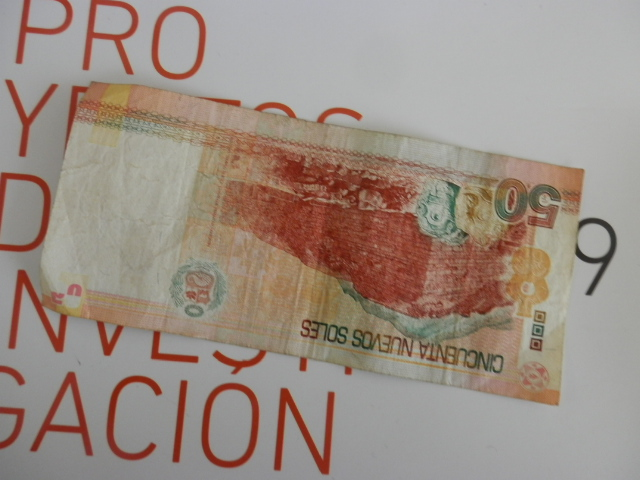B50: (43, 84, 581, 418)
